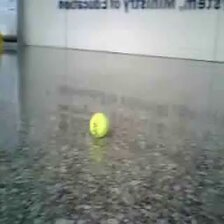tennis: (89, 113, 108, 137)
